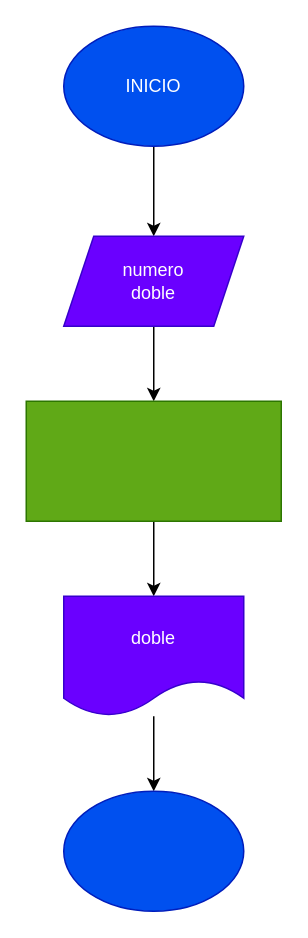
This 308x938 diagram has some shape labels left out. Each missing label, with the centre of its shape:
"doble = numero * 2" belongs at [153,460].
"FIN" belongs at [153,850].
